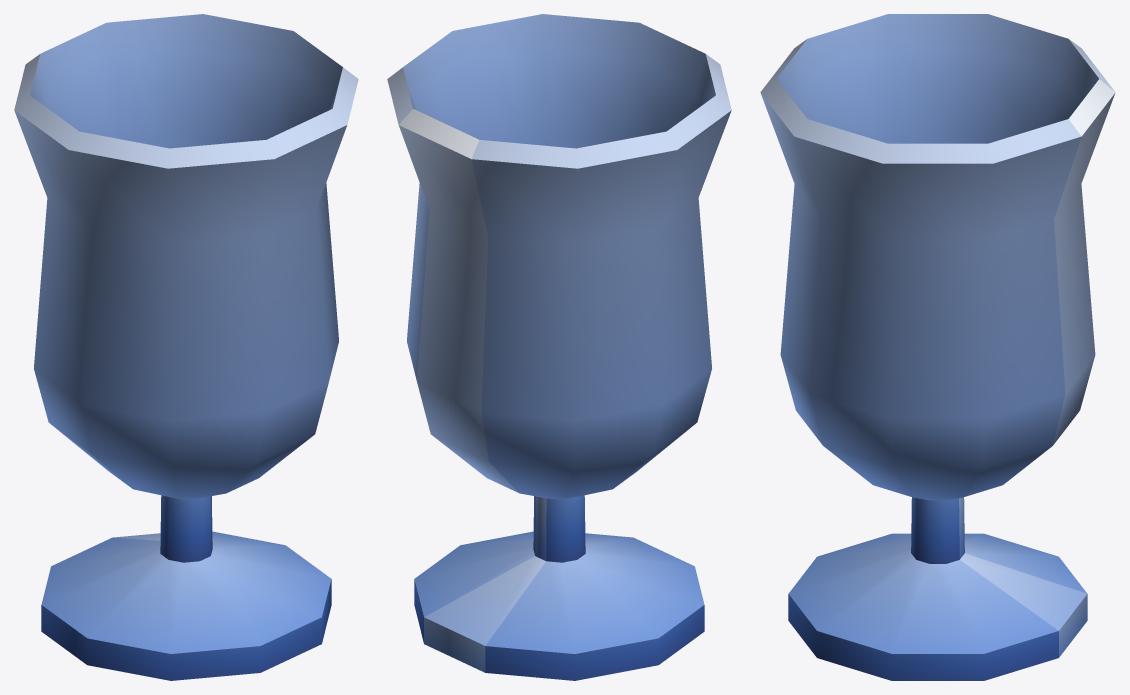
The model's file is m_Glass09.fbx.
3 views of the same model, side by side, from view 1: azimuth 30°, elevation 25°; view 2: azimuth 150°, elevation 25°; view 3: azimuth 270°, elevation 25° (orthographic).
Visible parts, largest first — view 1: m_Glass09; view 2: m_Glass09; view 3: m_Glass09.
Boxes of the visible parts, box(x1,y1,x2,y2) form: m_Glass09: box(14, 14, 358, 680); m_Glass09: box(387, 14, 731, 680); m_Glass09: box(760, 14, 1115, 680).
Bounding box in the file's own units: 11.3 × 20 × 11.88.
